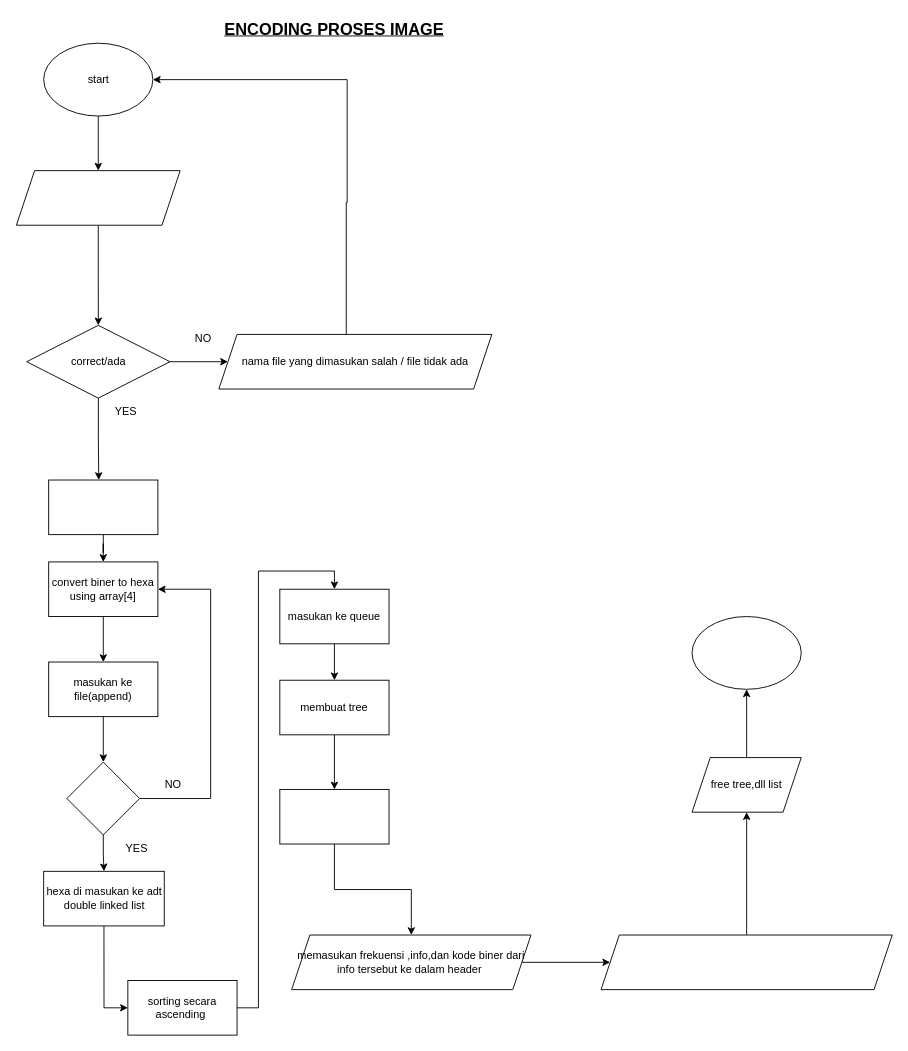
The diagram is 908 pixels wide and 1051 high, and some of its shapes have lost their labels. The centre of each missing label's shape, as x and y in pixels:
"buka file dengan format biner" goes at (103,507).
"encode text tersebut" goes at (334,816).
"end" goes at (746,652).
"hexa ke biner(huffman)menggunakan append file" goes at (746,962).
"memasukan nama file beserta ekstensinya secara lengkap" goes at (97,197).
"NULL" goes at (103,798).
